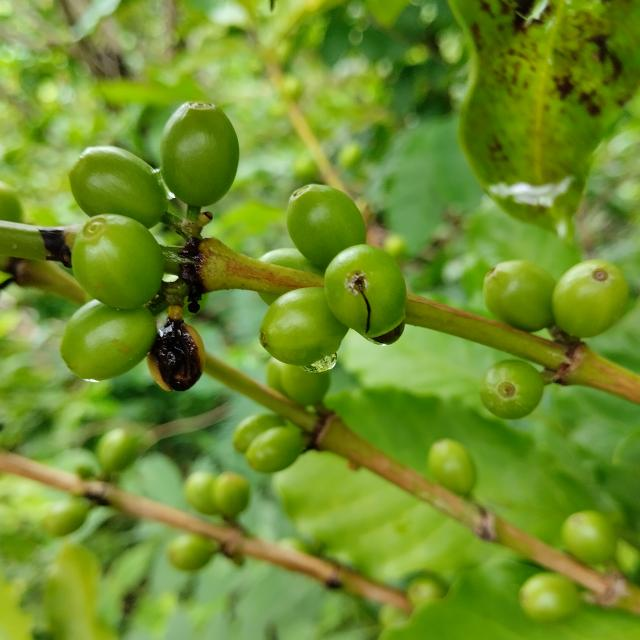green: (71, 214, 164, 309), (71, 214, 164, 309), (160, 101, 239, 207), (160, 101, 239, 207), (69, 146, 168, 228), (69, 146, 168, 228), (59, 299, 157, 381), (59, 299, 157, 381), (325, 244, 407, 339), (259, 287, 349, 367), (287, 184, 366, 267), (287, 184, 366, 267), (553, 260, 630, 338), (553, 260, 630, 338), (484, 260, 557, 332), (484, 260, 557, 332), (480, 360, 545, 420), (480, 360, 545, 420), (520, 574, 581, 624), (563, 511, 618, 565), (245, 426, 304, 474), (429, 439, 477, 496), (233, 414, 286, 453), (281, 365, 331, 406), (40, 498, 89, 537), (167, 535, 217, 572), (96, 429, 138, 473), (259, 248, 324, 275), (259, 248, 324, 275), (213, 472, 249, 519), (184, 472, 218, 516), (266, 358, 286, 395), (259, 292, 280, 305), (259, 292, 280, 305)
red: (147, 319, 205, 391)
